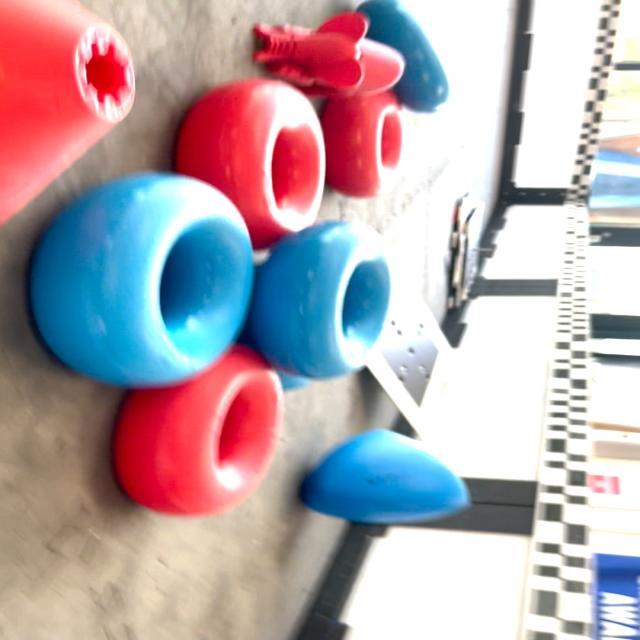Blue-Ring: (31, 172, 253, 388), (240, 221, 391, 379), (358, 0, 449, 112)
Red-Ring: (113, 345, 282, 516), (176, 79, 324, 249), (322, 91, 402, 198)
